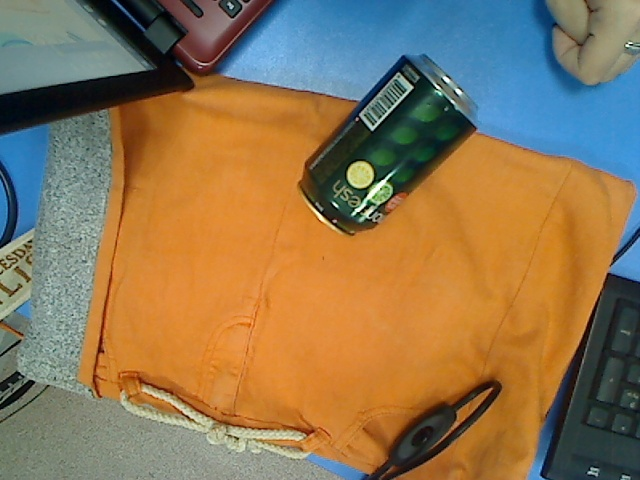can: (293, 51, 483, 240)
